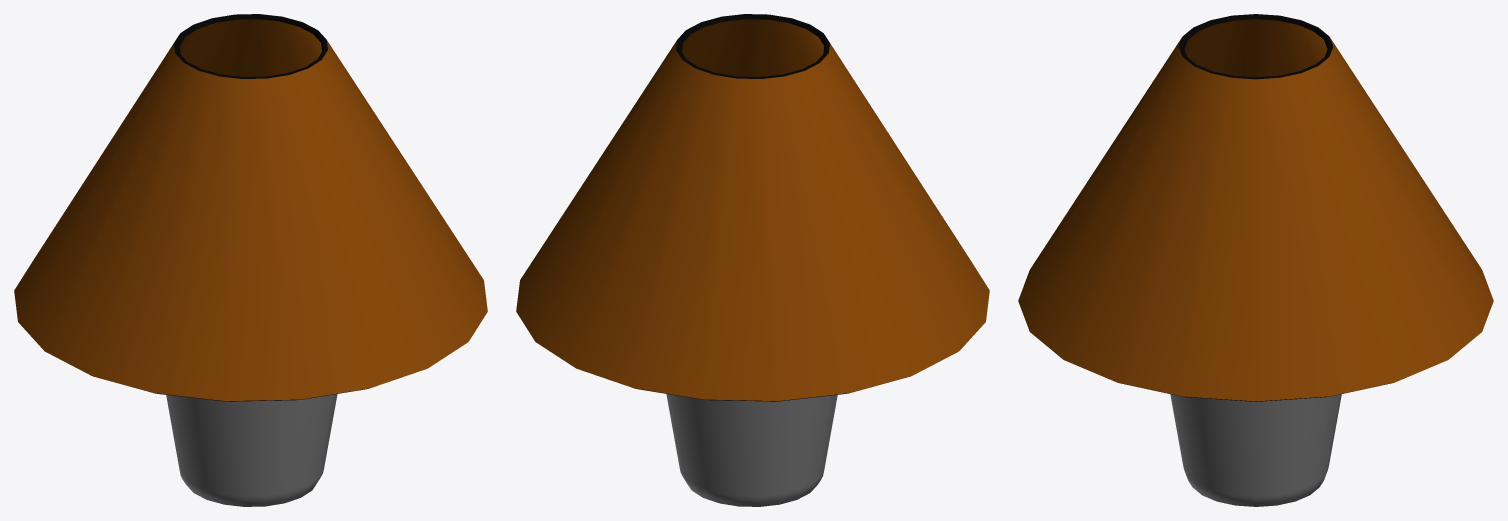
The model's file is lamp.fbx.
The picture shows the model from 3 angles, left to right: view 1: azimuth 30°, elevation 25°; view 2: azimuth 150°, elevation 25°; view 3: azimuth 270°, elevation 25°; orthographic projection.
Visible parts, largest first — view 1: lamp1 (×3); view 2: lamp1 (×3); view 3: lamp1 (×3).
Boxes of the visible parts, x1=… form: lamp1 (×3): x1=14, y1=14, x2=487, y2=506; lamp1 (×3): x1=516, y1=14, x2=989, y2=506; lamp1 (×3): x1=1018, y1=14, x2=1493, y2=506.
Size of the model in its own units: 0.4876 by 0.4892 by 0.4876.
